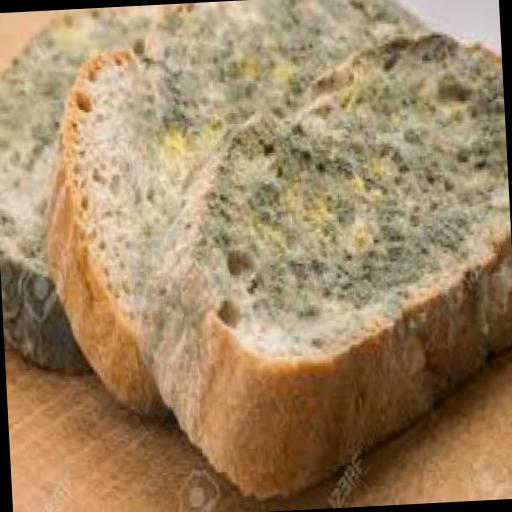biodegradable: (35, 0, 512, 507), (0, 4, 193, 375)
